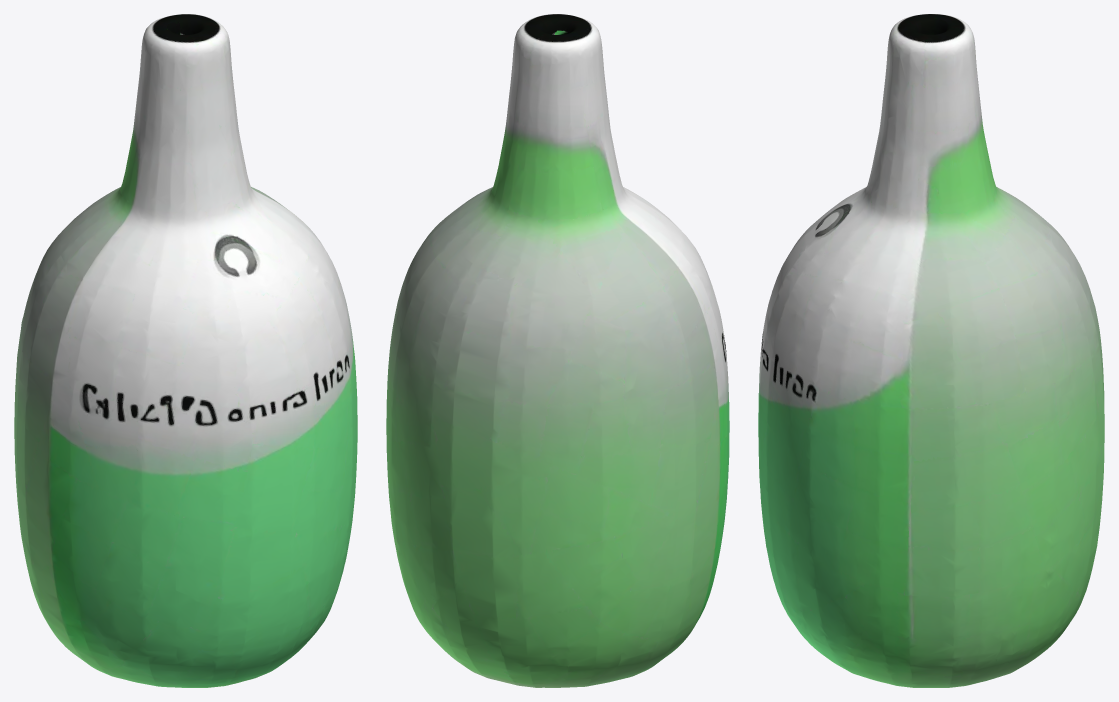
Rendered from hand-vac.glb.
The picture shows the model from 3 angles, left to right: view 1: azimuth 30°, elevation 25°; view 2: azimuth 150°, elevation 25°; view 3: azimuth 270°, elevation 25°; orthographic projection.
Bounding box in the file's own units: 0.9617 × 1.9 × 0.9617.
Materials: 1 (1 with a texture image).
